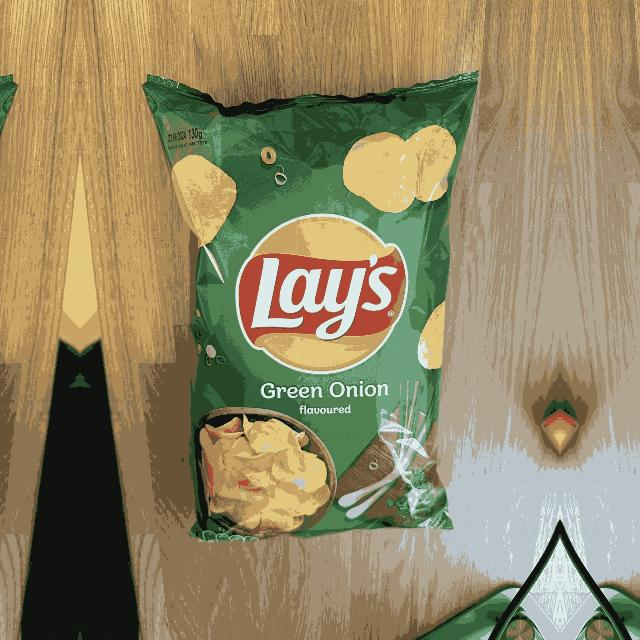lays: (236, 214, 410, 376)
